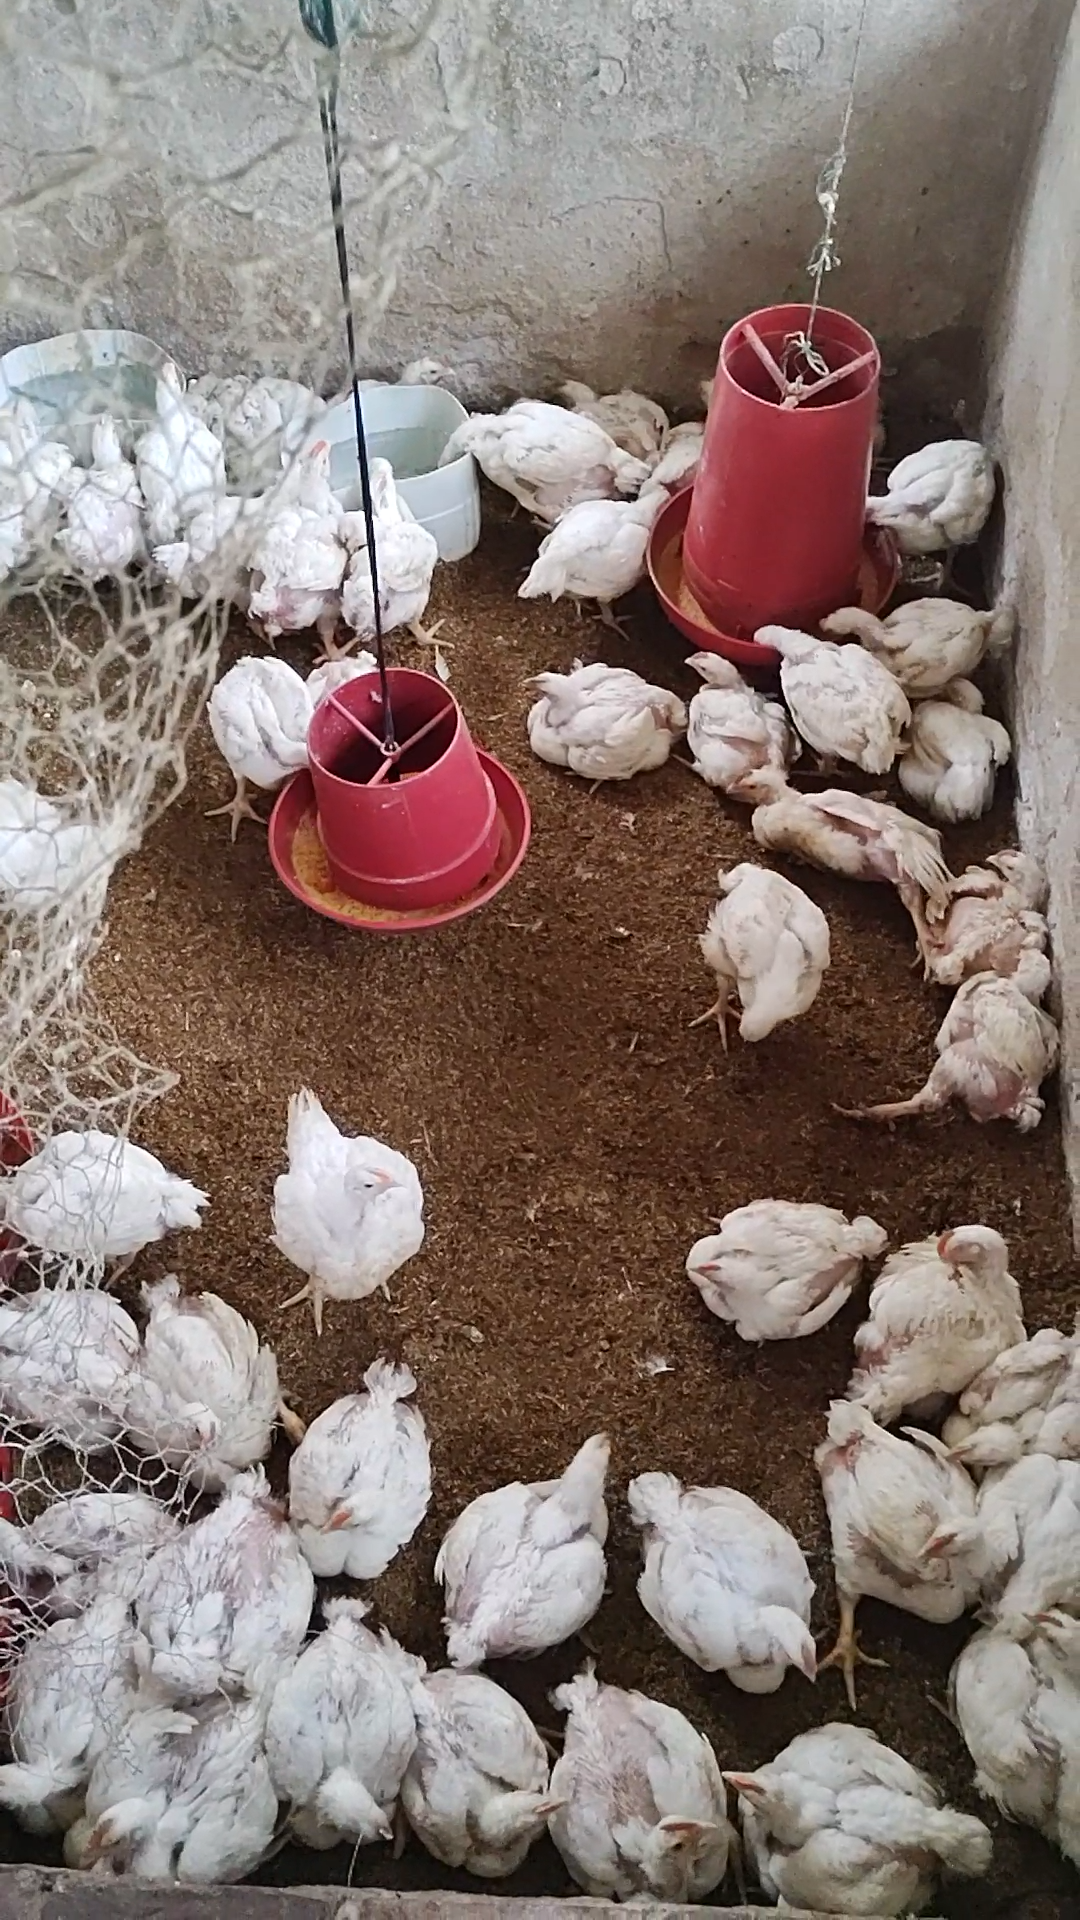Pollos: (775, 1396, 992, 1702), (723, 1720, 993, 1908), (616, 1462, 832, 1696), (436, 1425, 626, 1677), (541, 1668, 741, 1895), (241, 1085, 439, 1313), (63, 1672, 265, 1869), (257, 1597, 402, 1865), (11, 1577, 171, 1818), (392, 1652, 553, 1890), (851, 953, 1058, 1135), (922, 1626, 1080, 1851), (290, 1337, 440, 1567), (131, 1485, 298, 1691), (676, 1193, 891, 1342), (123, 1274, 284, 1470), (847, 1224, 1023, 1387), (717, 758, 940, 887), (690, 858, 833, 1054), (0, 1129, 218, 1251), (0, 1269, 146, 1451), (510, 481, 686, 632), (748, 618, 898, 775), (342, 448, 459, 647), (959, 1448, 1080, 1639), (436, 406, 638, 514), (520, 661, 688, 787), (247, 430, 349, 636), (934, 1332, 1080, 1473), (189, 647, 320, 803), (855, 426, 1004, 551), (669, 640, 790, 790), (891, 670, 1015, 814), (822, 591, 1004, 686), (148, 353, 233, 535), (926, 851, 1056, 961), (67, 407, 153, 568), (560, 360, 679, 448), (393, 353, 459, 400)
